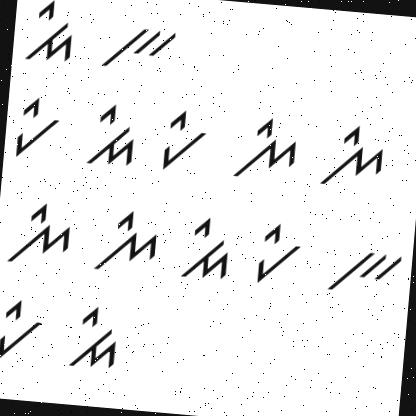di: (58, 302, 121, 376), (174, 212, 234, 285), (21, 0, 79, 66), (86, 101, 140, 169)
ni: (2, 196, 80, 274), (314, 118, 391, 194), (230, 113, 301, 189), (92, 206, 165, 278)
pi: (151, 108, 210, 173), (251, 218, 305, 288), (9, 94, 64, 160), (0, 292, 47, 366)
